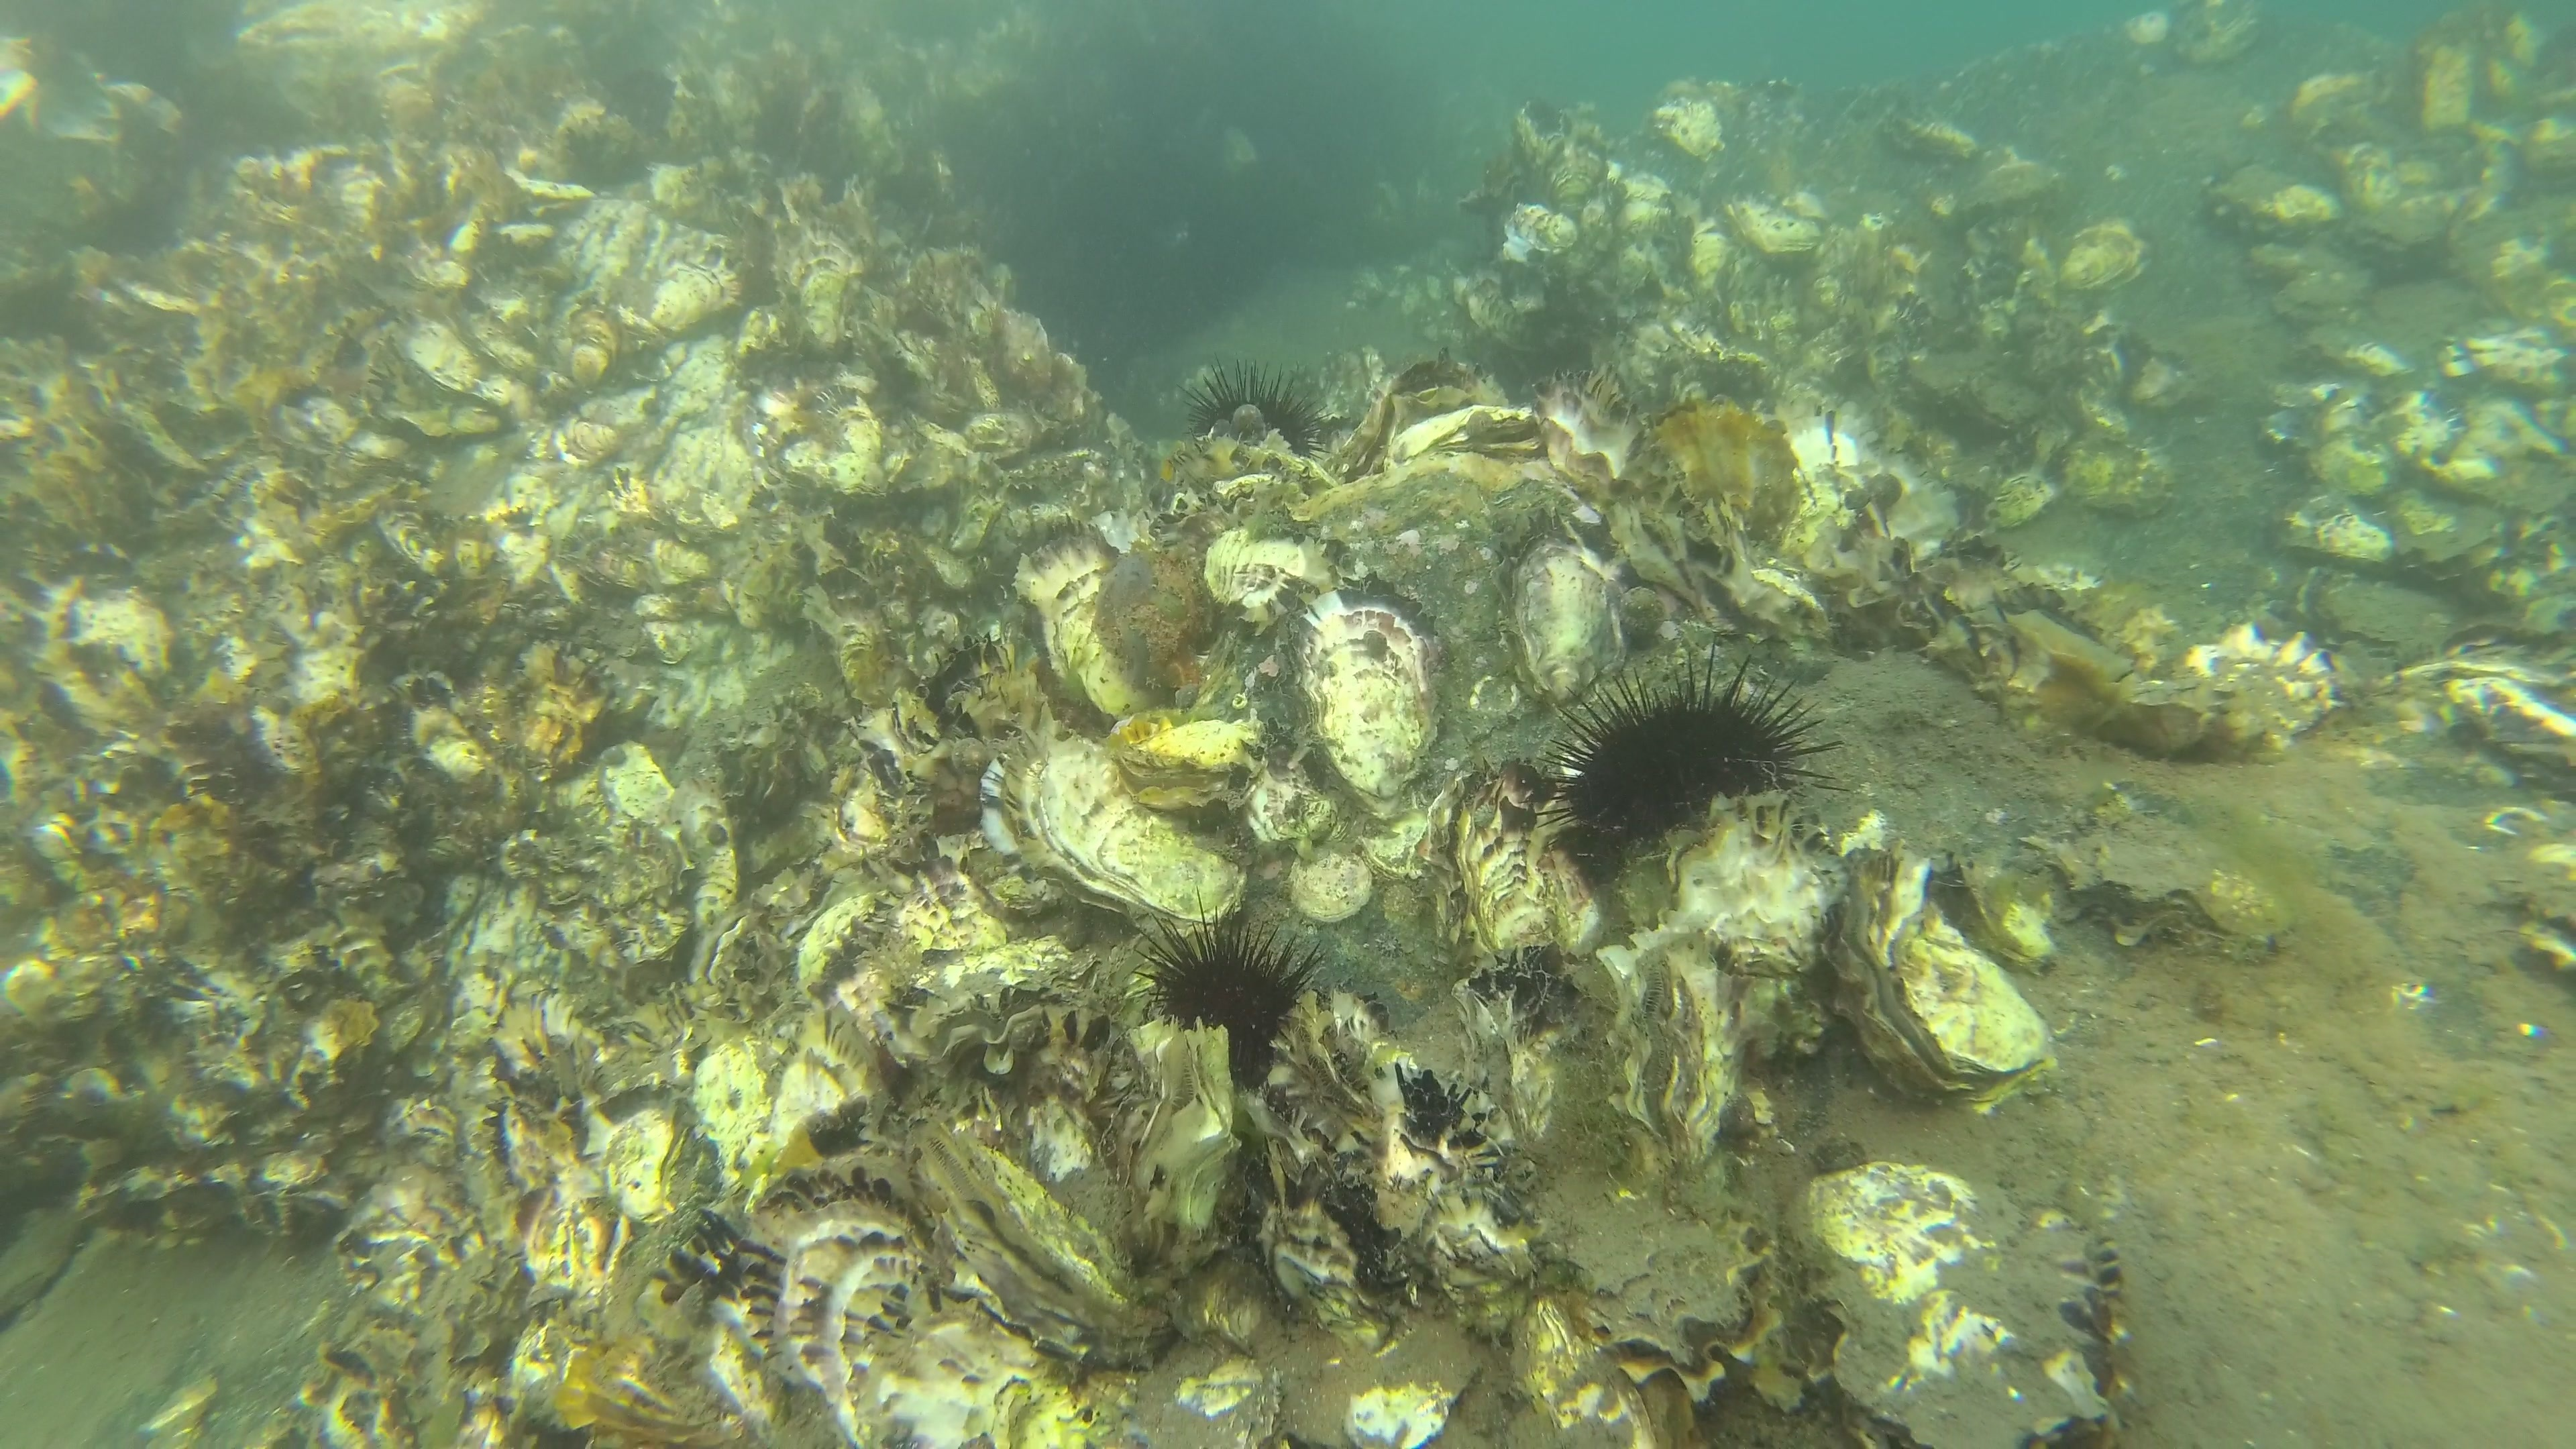echinus: (1530, 646, 1844, 853), (1132, 901, 1323, 1092), (1182, 368, 1332, 464)
